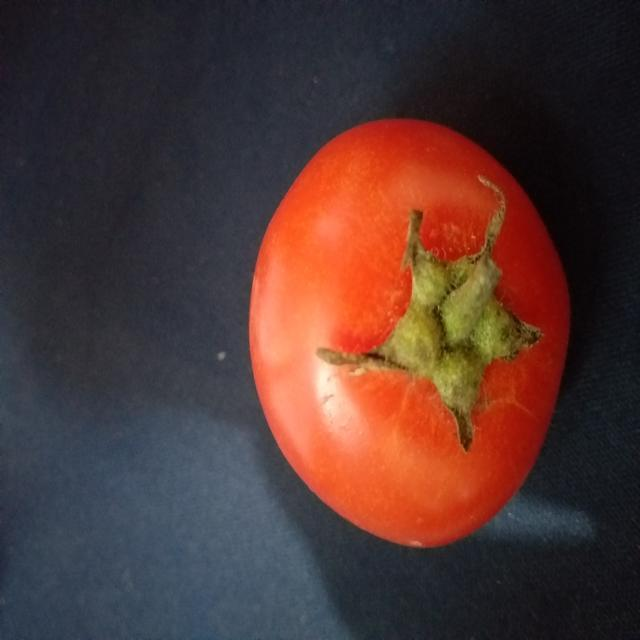tomato: (216, 104, 597, 572)
